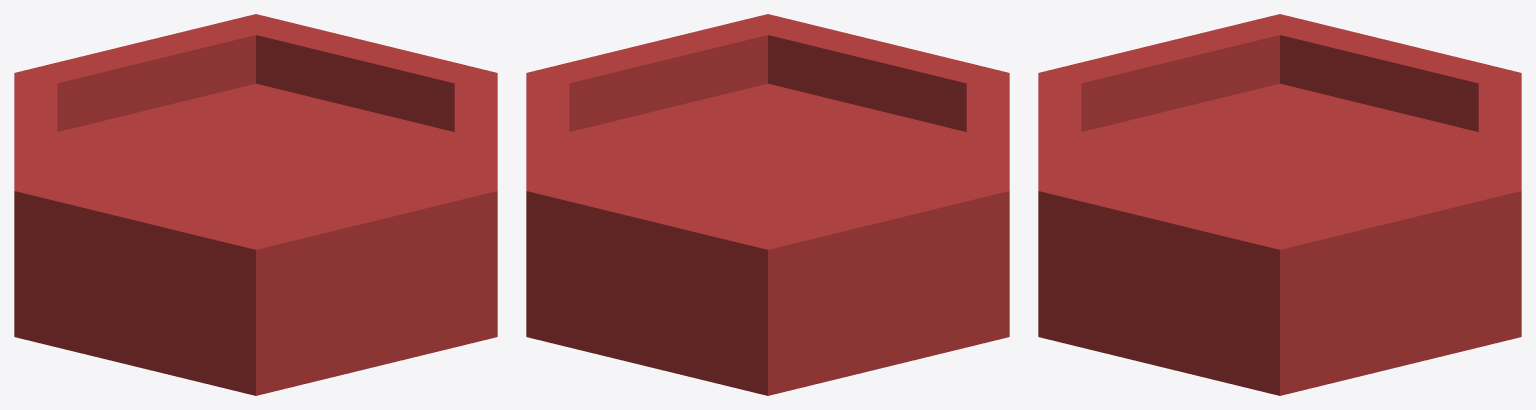
The model's file is Piece_3_bottom.fbx.
3 renders of one model, left to right at view 1: azimuth 30°, elevation 25°; view 2: azimuth 150°, elevation 25°; view 3: azimuth 270°, elevation 25°, orthographic.
Visible parts, largest first — view 1: 개체_1; view 2: 개체_1; view 3: 개체_1.
Part boxes in pixels (box(x1,y1,x2,y2)): 개체_1: box(14, 14, 497, 395); 개체_1: box(526, 14, 1009, 395); 개체_1: box(1038, 14, 1521, 395).
Bounding box in the file's own units: 5.2 × 4.5 × 1.5.
